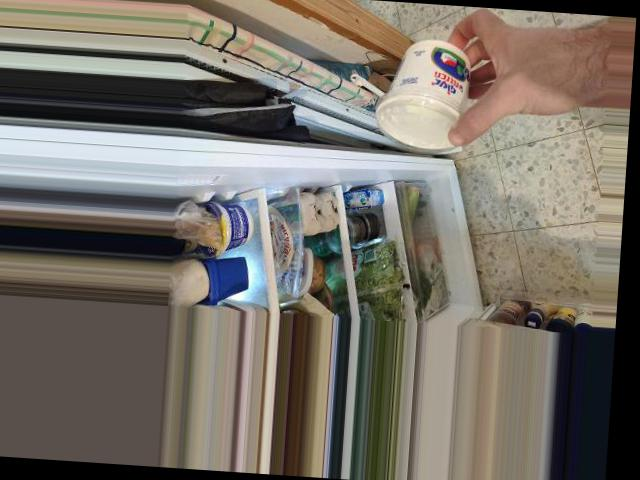cotage: (370, 32, 488, 158)
